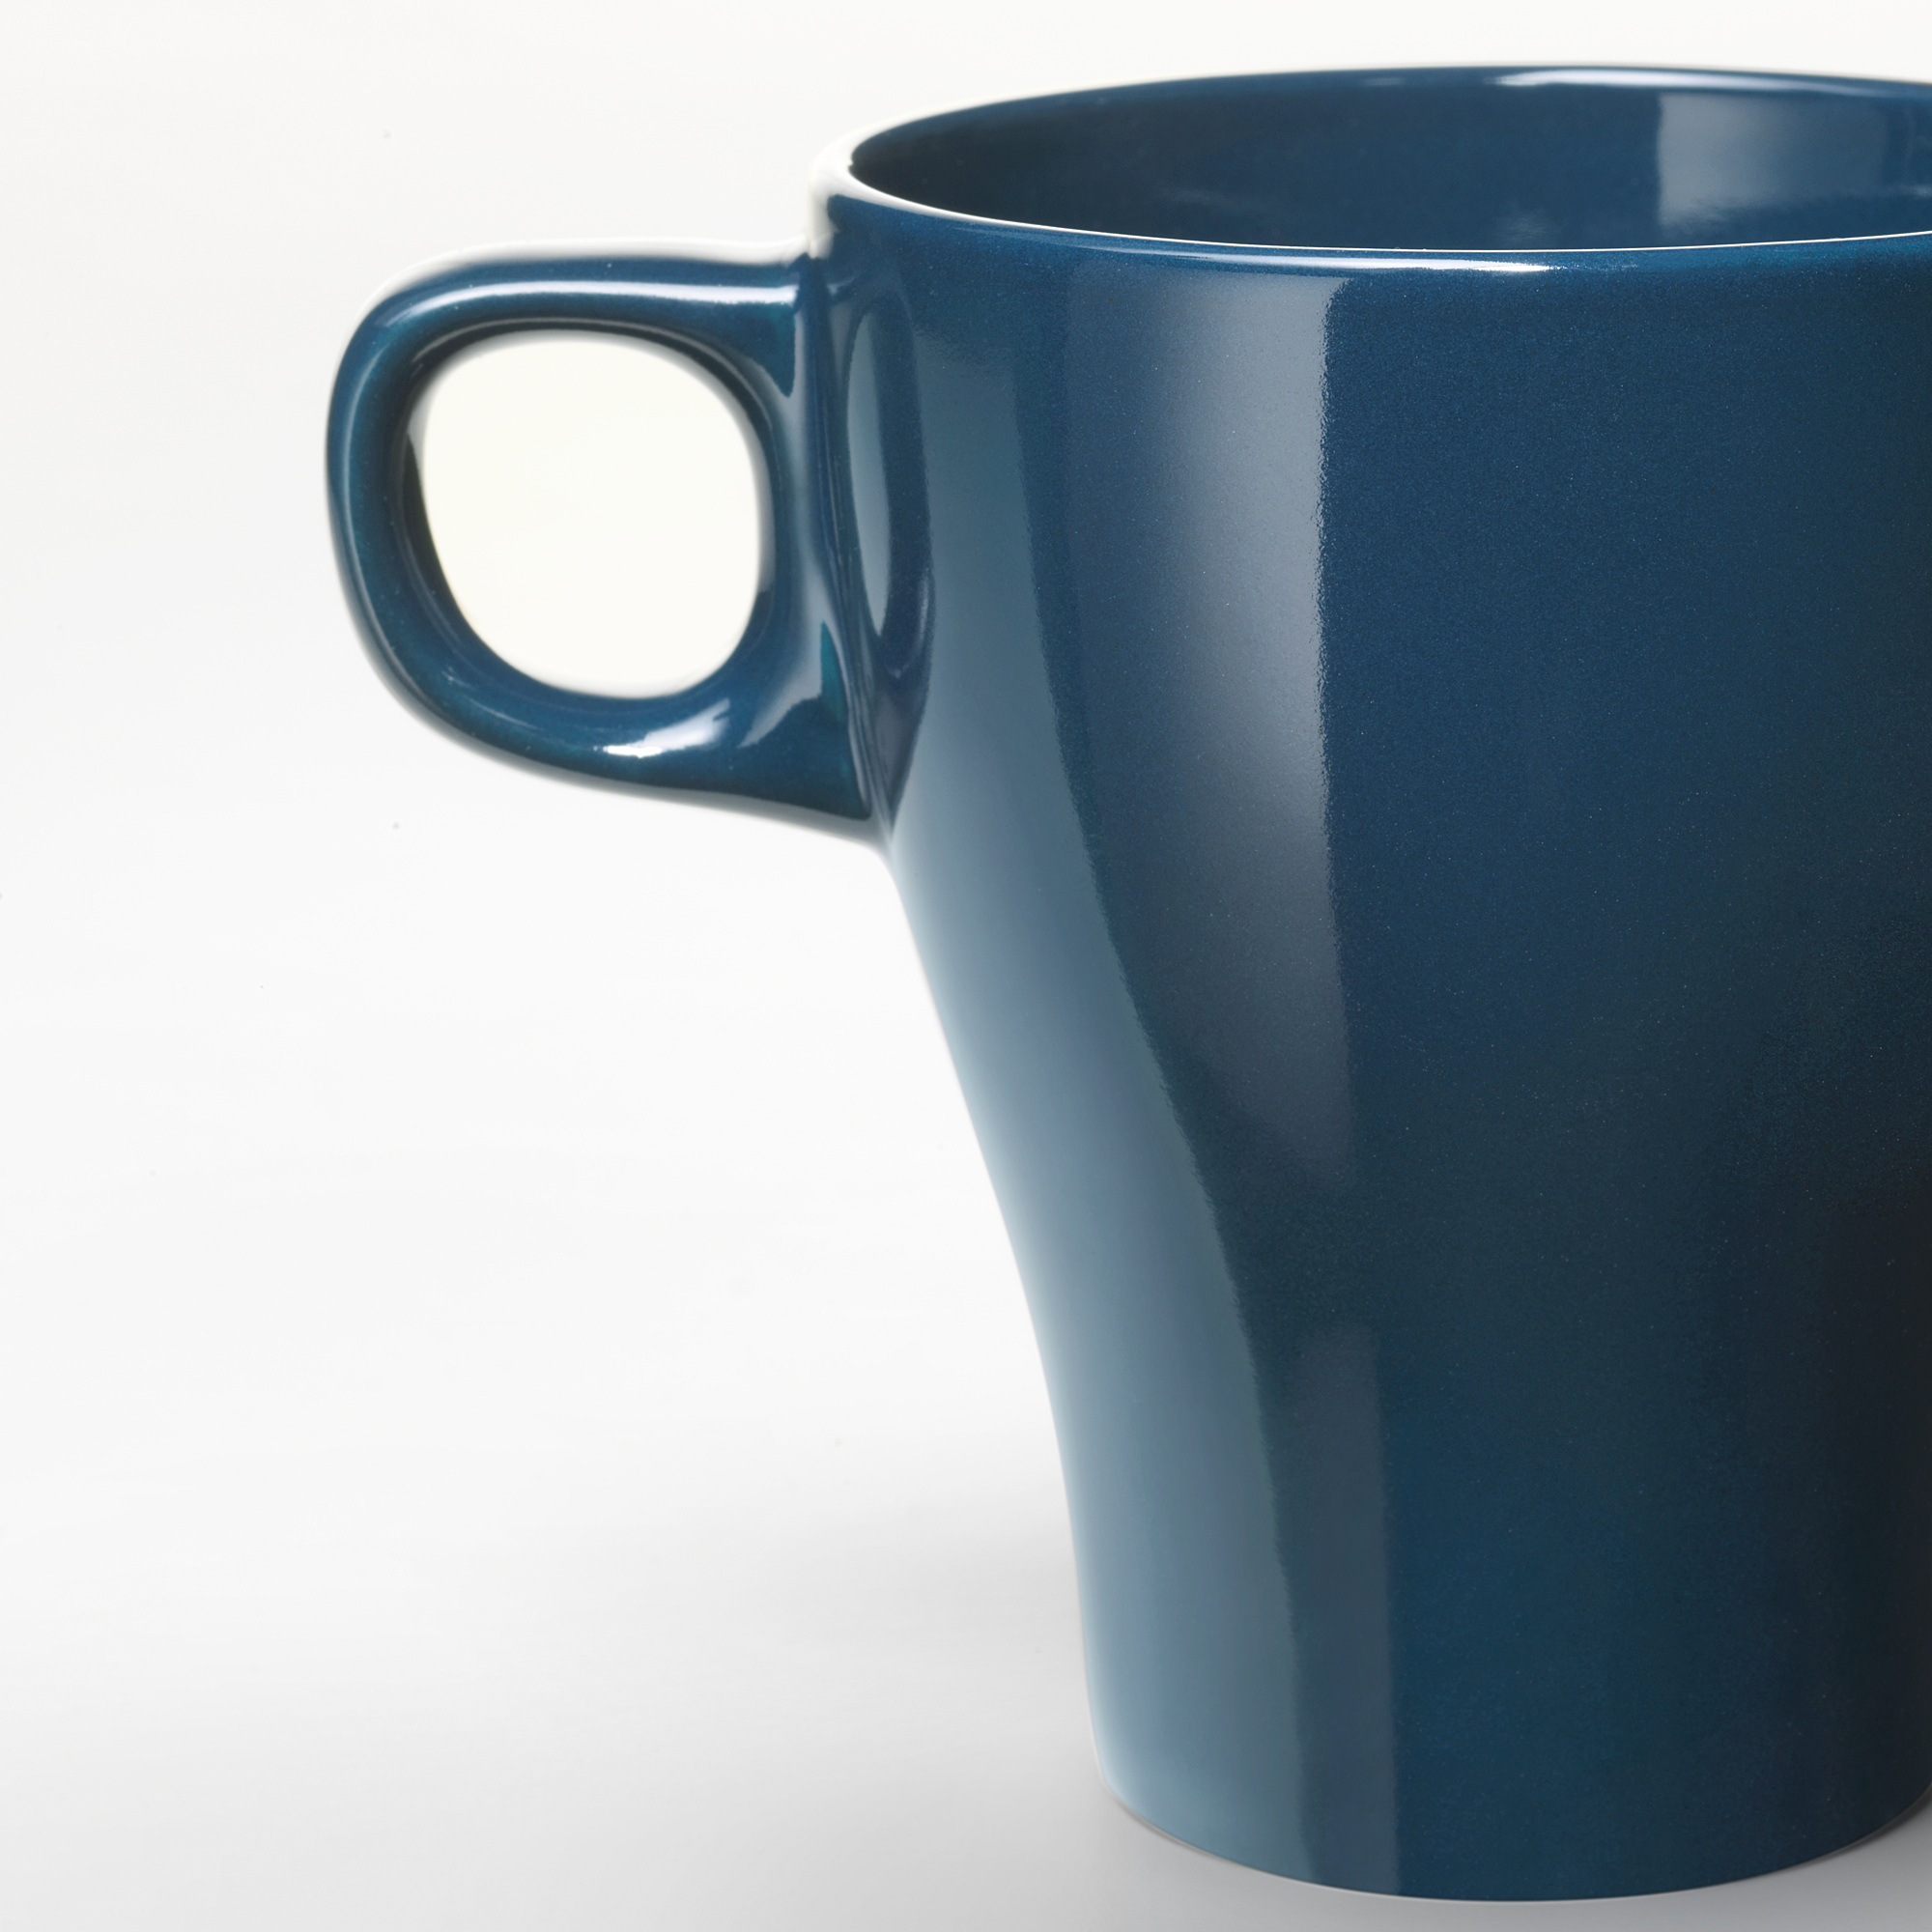gelas: (280, 46, 1932, 1888)
